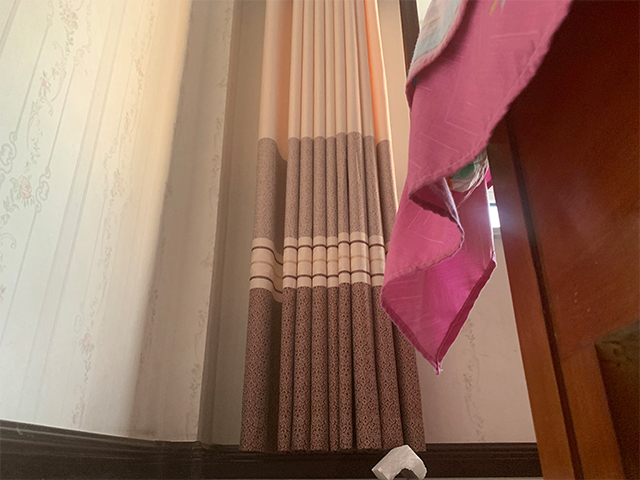curtain: (239, 1, 427, 453)
